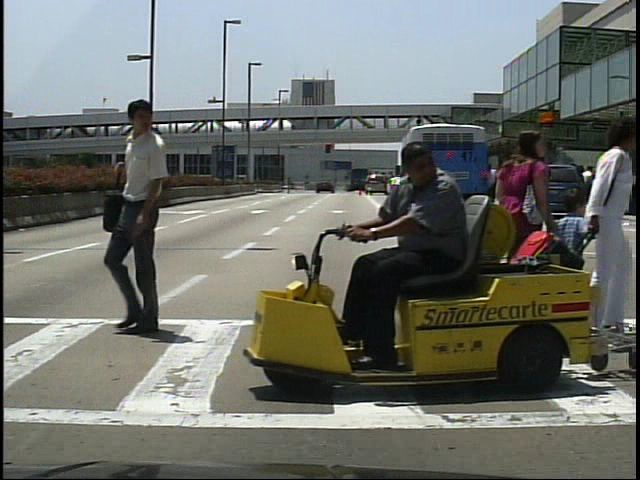person: (337, 142, 486, 373), (566, 112, 640, 353), (107, 100, 179, 337), (487, 126, 558, 356), (556, 188, 597, 328), (581, 165, 601, 216), (484, 162, 503, 212), (502, 165, 519, 218)
